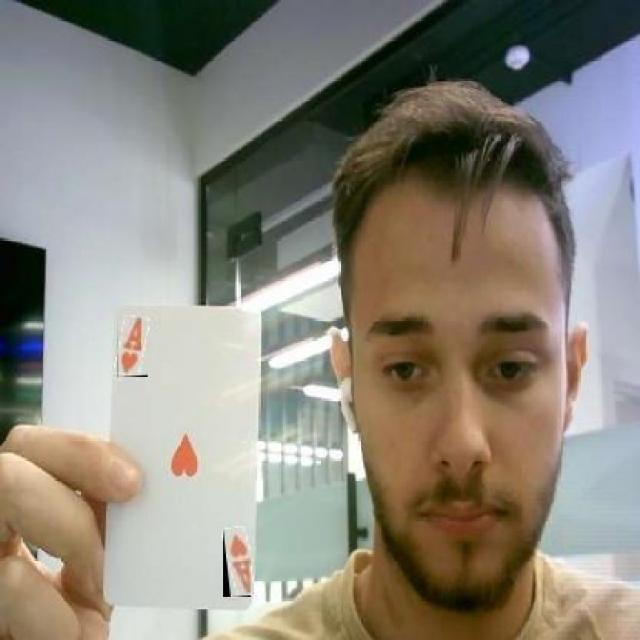AH: (224, 528, 251, 597), (117, 317, 148, 377)
